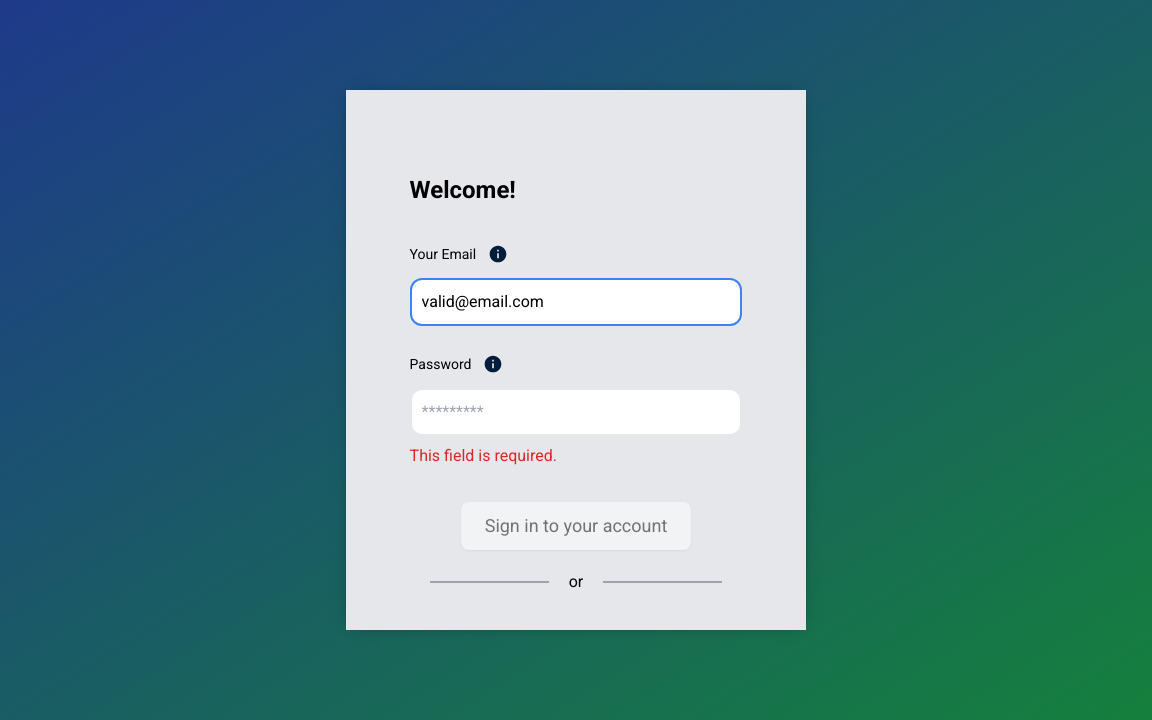
Test: React Social App › Login Page › Password Input › Focus password input and type one character, it should return small & capital letter validation error
Type "a" into the password field with placeholder "*********" at (577, 412), box [410,388,743,436]
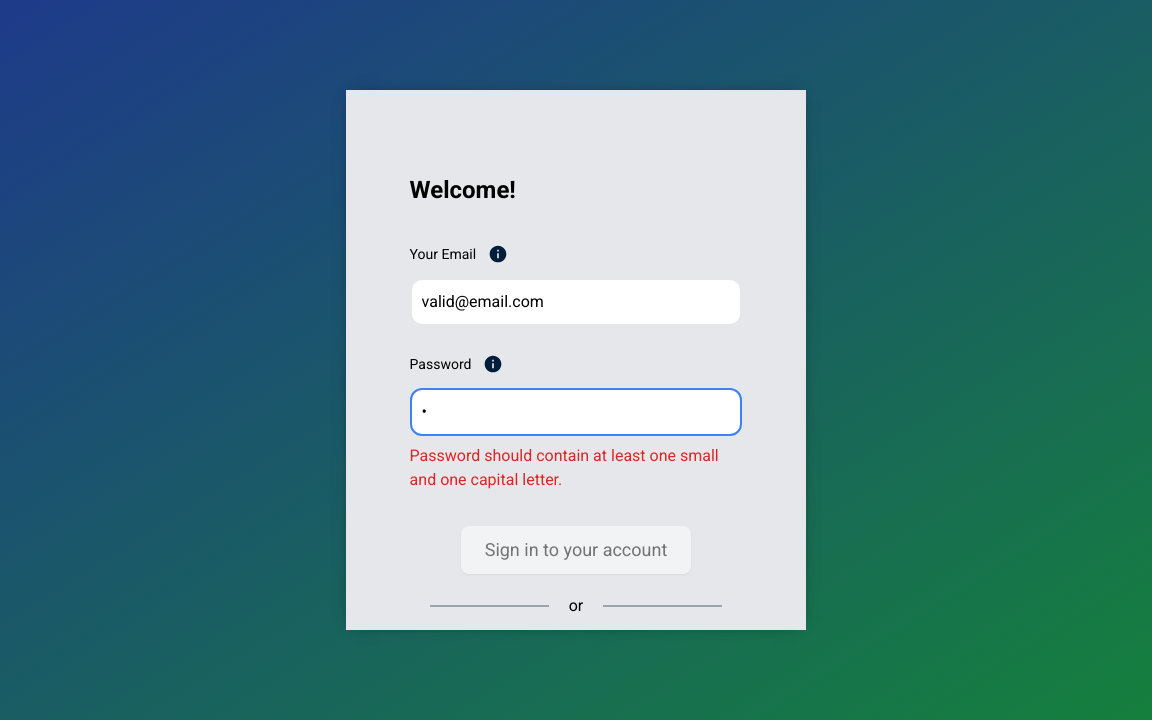
Expected: the text "Password should contain at least one small and one capital letter." is shown, [410,436,742,492]
